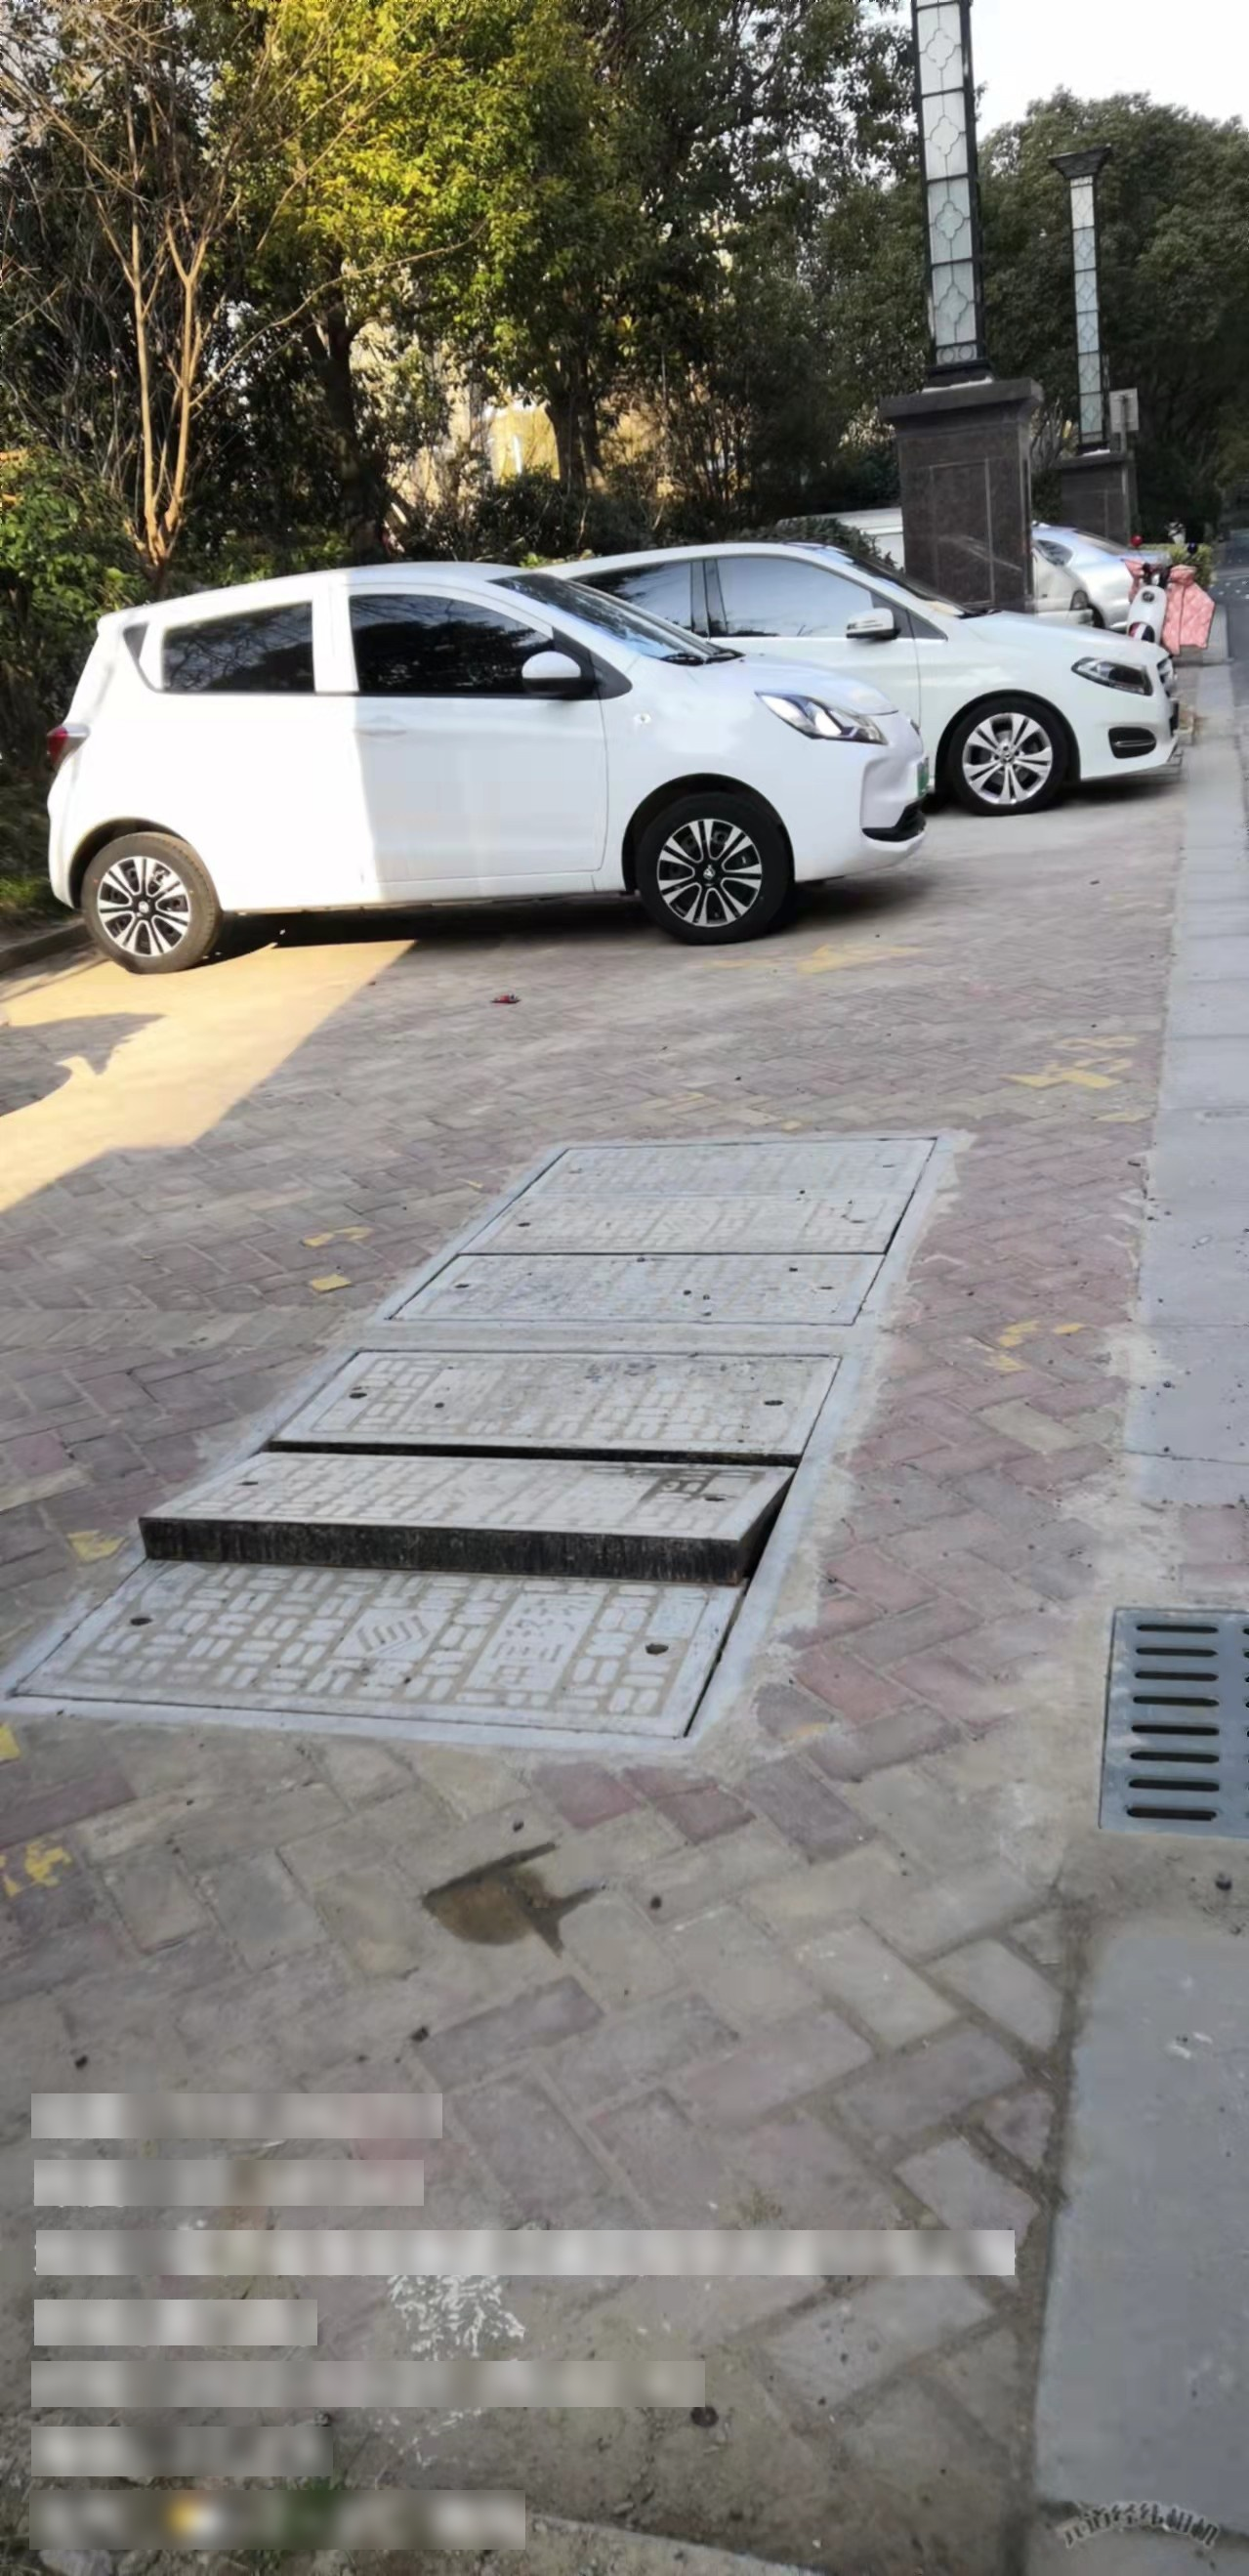good: (382, 1119, 949, 1334)
uncovered: (2, 1342, 863, 1756)
